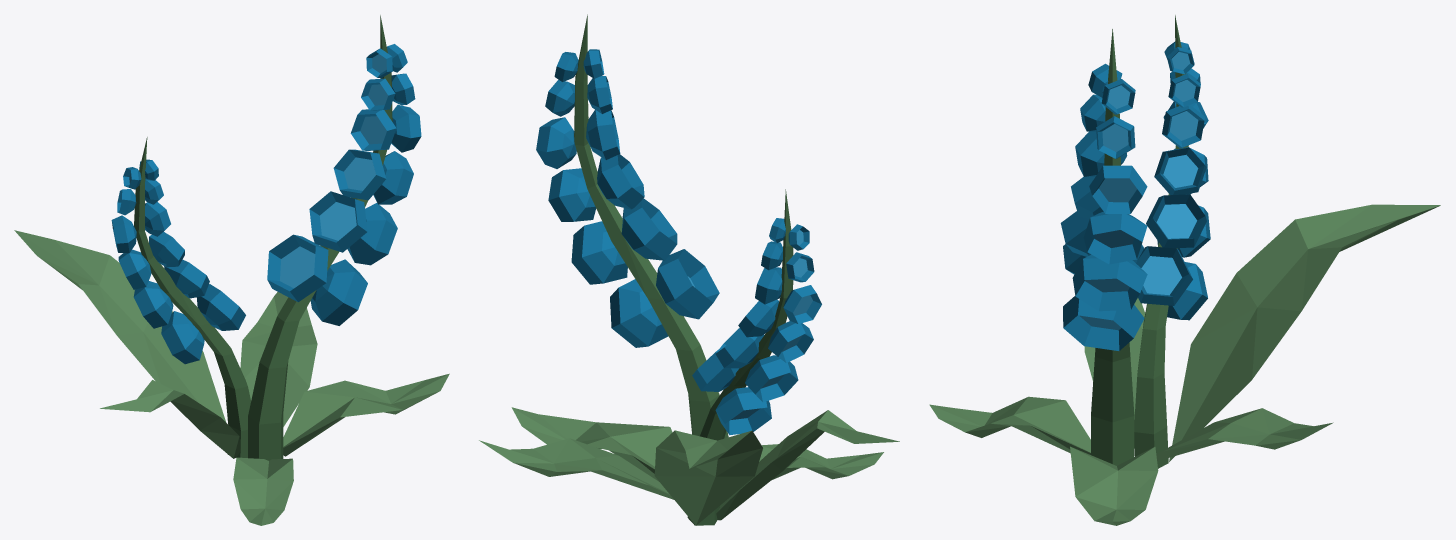
File: _flower_2.glb
3 renders of one model, left to right at view 1: azimuth 30°, elevation 25°; view 2: azimuth 150°, elevation 25°; view 3: azimuth 270°, elevation 25°, orthographic. The views are drawn at different scales.
Visible parts, largest first — view 1: flower_2; view 2: flower_2; view 3: flower_2.
Boxes of the visible parts, x1=… form: flower_2: x1=14, y1=15, x2=449, y2=525; flower_2: x1=479, y1=14, x2=899, y2=525; flower_2: x1=929, y1=15, x2=1440, y2=525.
Size of the model in its own units: 0.7177 by 0.8223 by 0.7477.
Materials: 1 (1 with a texture image).
